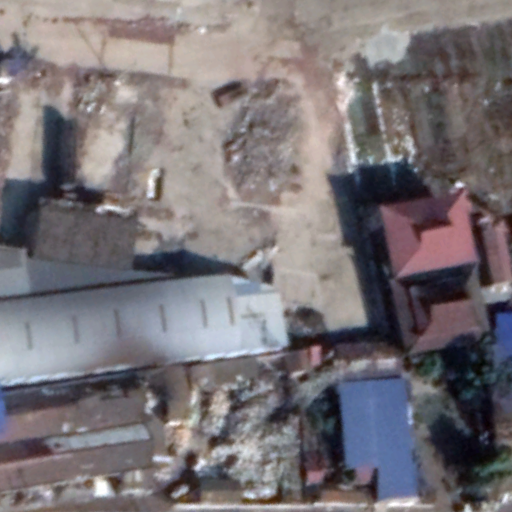msw: (189, 376, 305, 500)
